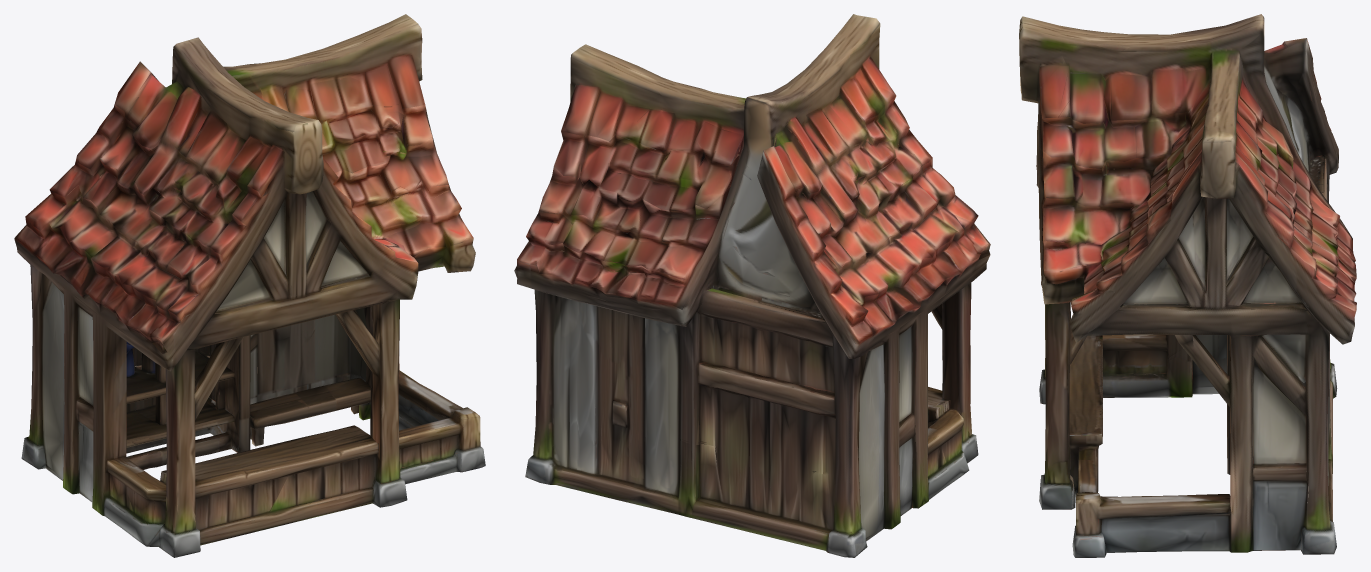
Rendered from bank_building.glb.
The picture shows the model from 3 angles, left to right: view 1: azimuth 30°, elevation 25°; view 2: azimuth 150°, elevation 25°; view 3: azimuth 270°, elevation 25°; orthographic projection. The views are drawn at different scales.
Visible parts, largest first — view 1: Mesh_0; view 2: Mesh_0; view 3: Mesh_0.
Part boxes in pixels (x1,y1,x2,y2): Mesh_0: (14,14,485,557); Mesh_0: (514,14,990,557); Mesh_0: (1019,14,1356,557).
Bounding box in the file's own units: 10.73 × 12.14 × 8.61.
Materials: 1 (1 with a texture image).
